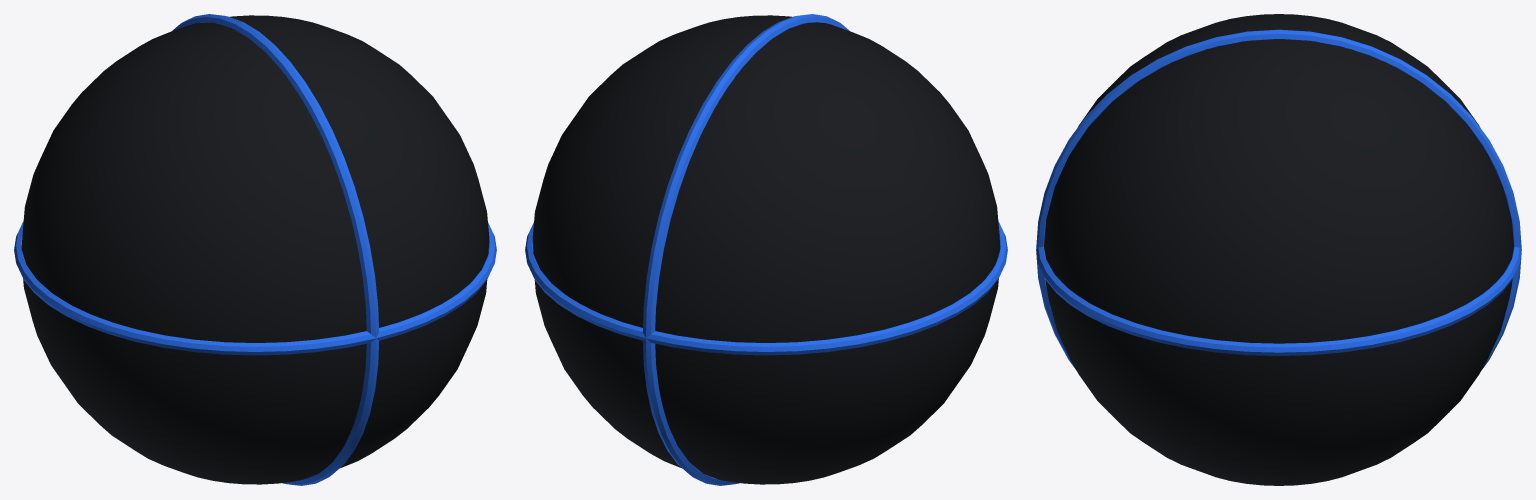
File: prop-medicine-ball.glb
3 renders of one model, left to right at view 1: azimuth 30°, elevation 25°; view 2: azimuth 150°, elevation 25°; view 3: azimuth 270°, elevation 25°, orthographic.
Visible parts, largest first — view 1: frame.rubber, frame.accent; view 2: frame.rubber, frame.accent; view 3: frame.rubber, frame.accent.
Part boxes in pixels (x1,y1,x2,y2): frame.rubber: (21,15,489,484); frame.accent: (14,14,496,485); frame.rubber: (532,15,1000,484); frame.accent: (525,14,1007,485); frame.rubber: (1044,14,1513,485); frame.accent: (1036,29,1521,370).
Size of the model in its own units: 0.288 by 0.288 by 0.288.
